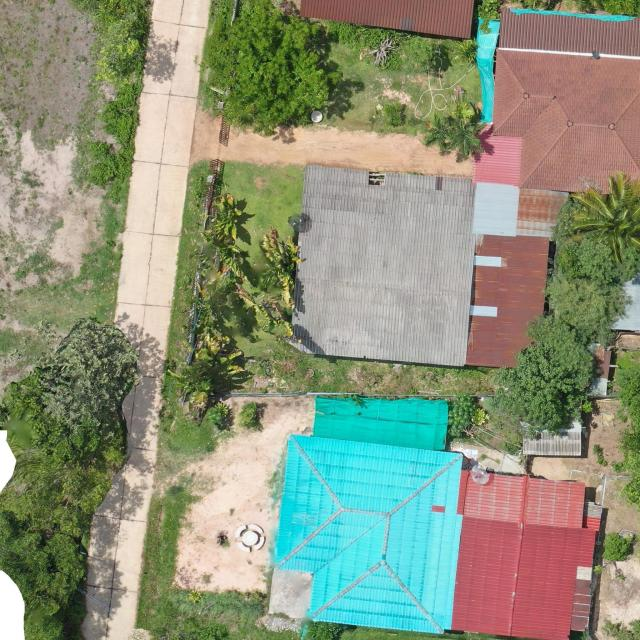banana_tree2: (166, 328, 247, 414), (260, 225, 308, 316), (195, 265, 258, 326), (182, 228, 246, 278), (212, 192, 241, 242)
tree: (208, 4, 334, 137), (32, 314, 144, 439), (499, 342, 595, 436), (548, 192, 640, 286), (536, 266, 632, 344), (563, 168, 640, 265), (522, 313, 600, 394), (90, 19, 146, 87), (445, 102, 488, 156), (592, 531, 632, 581), (446, 389, 480, 438), (419, 111, 458, 153), (206, 401, 230, 429)
tree_crowd: (0, 377, 134, 640)
